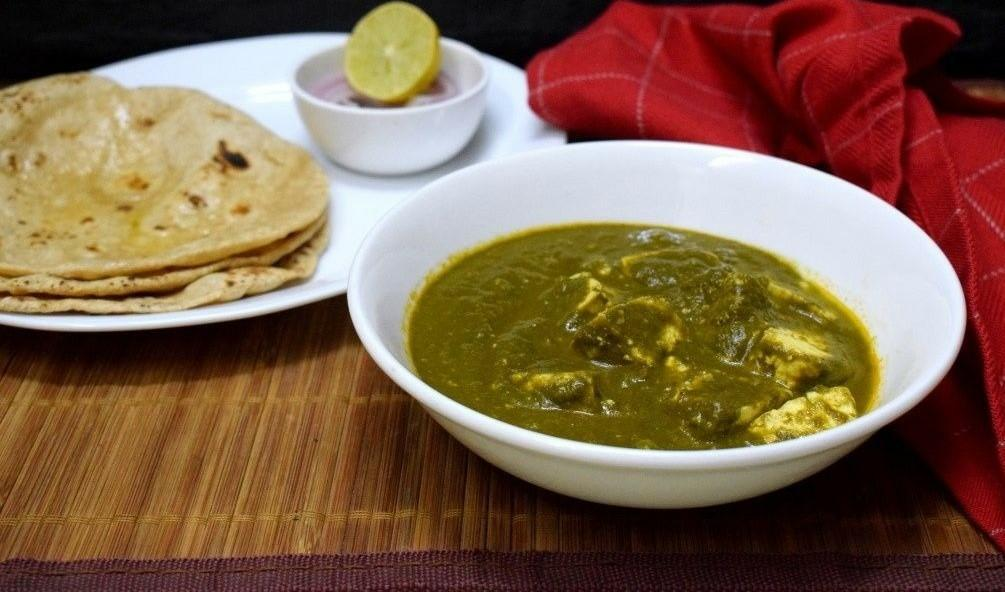PalakPaneer: (409, 223, 883, 464)
